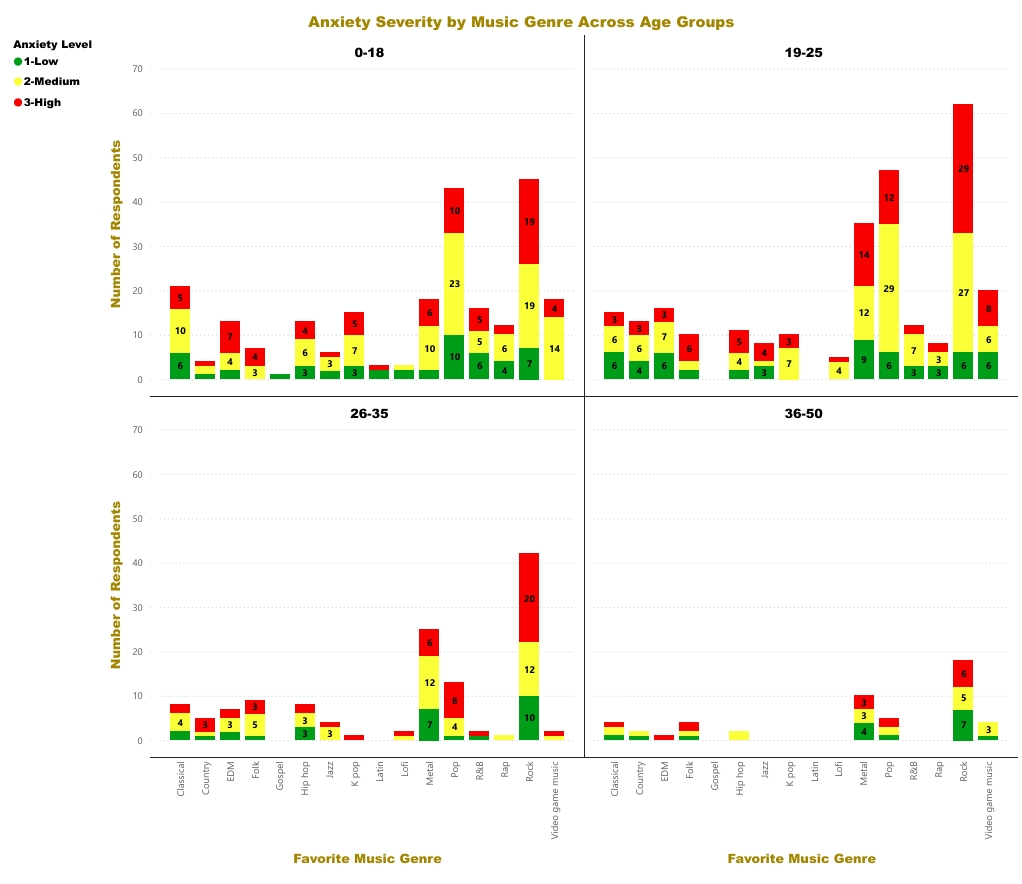

This screenshot's page, from the dashboard's own definition file:
{"tool":"powerbi","page":{"name":"Anxiety","canvas":[1280,1200],"ordinal":0},"visuals":[{"type":"columnChart","title":"Anxiety Severity by Music Genre Across Age Groups","fields":{"Category":["survey_results.Fav genre"],"Series":["survey_results.Anxiety Level"],"Rows":["survey_results.Age Group"],"Y":["CountNonNull(survey_results.Age)"]},"box":[0,0,1281,1075],"z":0}]}

Visuals, with their boxes on the page's 1280x1200 design canvas (x1, y1, x2, y2). These are canvas units, not pixel positions in the 1022x884 screenshot, which may show the page scaled, cropped or inside an application window:
"Anxiety Severity by Music Genre Across Age Groups" columnChart: bbox(0, 0, 1281, 1075)
